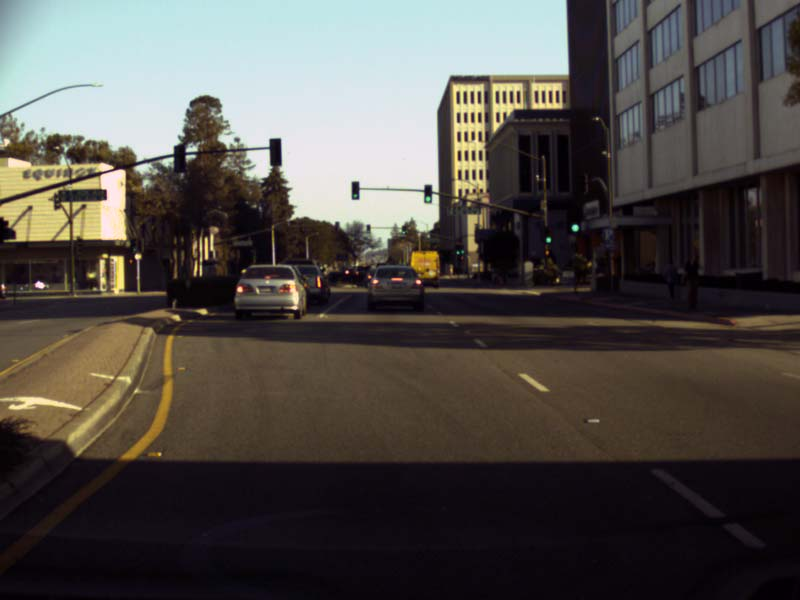Green: (566, 206, 581, 233), (543, 227, 552, 243), (424, 184, 431, 202), (351, 181, 358, 199), (459, 245, 464, 255), (455, 244, 459, 255), (366, 224, 369, 232), (402, 226, 405, 234)
